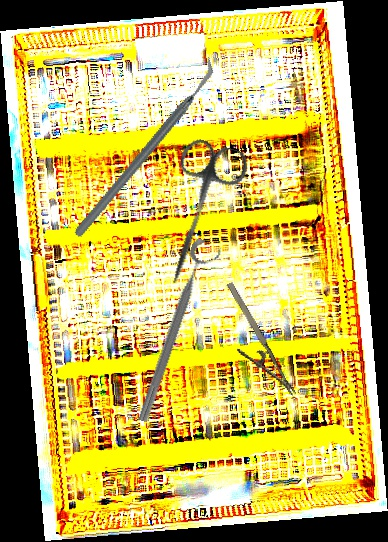Chopper: (30, 55, 260, 239)
Fixation Ring: (132, 237, 225, 428)
Iris Scissors: (145, 135, 252, 294)
Needle Holder: (207, 280, 297, 409)
